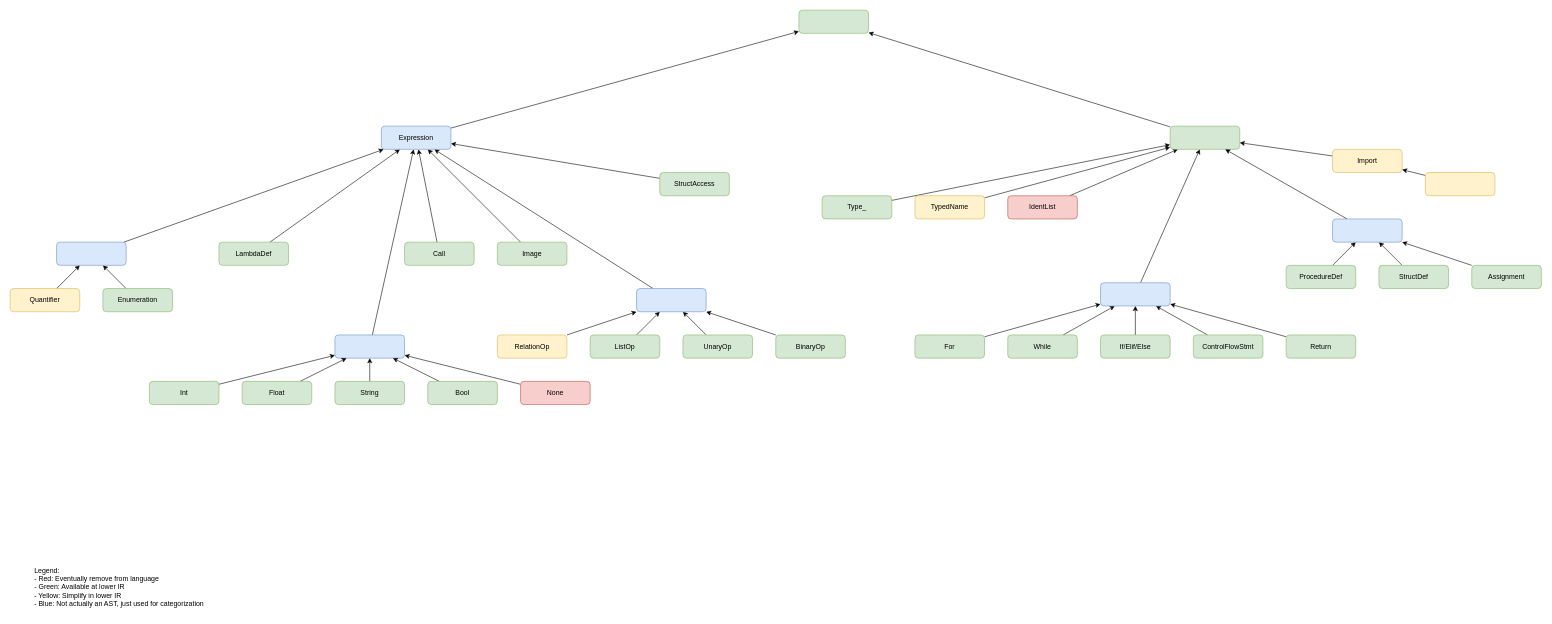
The diagram is 1552 pixels wide and 624 high, and some of its shapes have lost their labels. Here are the shapes that lost their labels. From the top down, the centre of each, then its label:
the point at 833,21: Start
the point at 1205,137: Statements
the point at 1460,184: ImportAll
the point at 1367,230: Definitions
the point at 91,253: Collection
the point at 671,300: Operation
the point at 1135,294: Control Flow Structures
the point at 369,346: Literal
